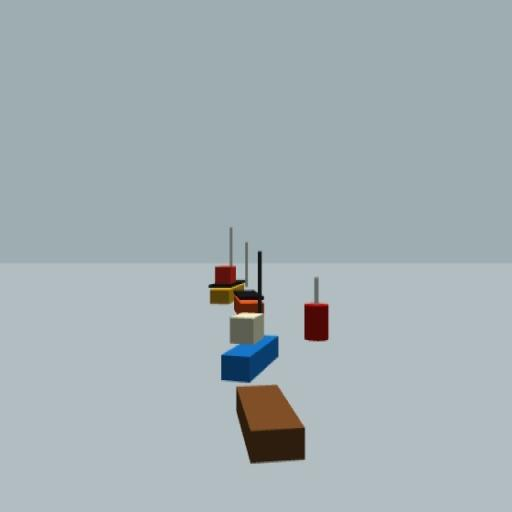debris_container: (234, 385, 307, 464)
fishing_boat: (220, 249, 278, 384)
floating_obstacle: (302, 275, 329, 344)
vessel: (210, 224, 246, 306)
